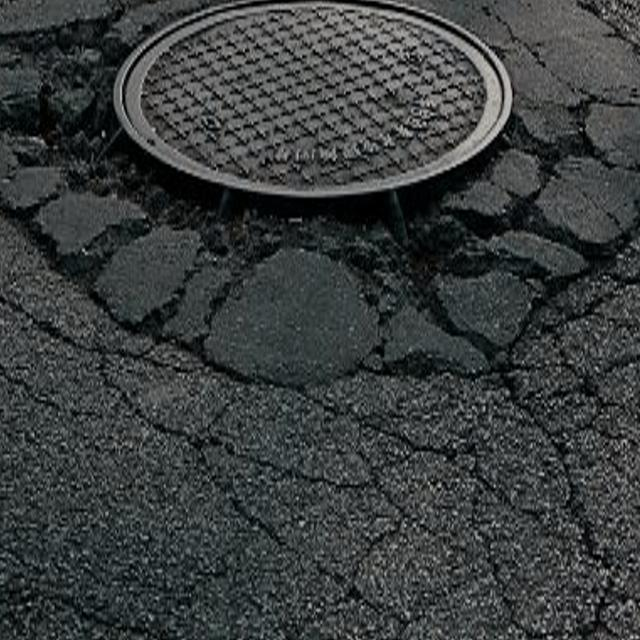circle: (2, 0, 640, 445)
